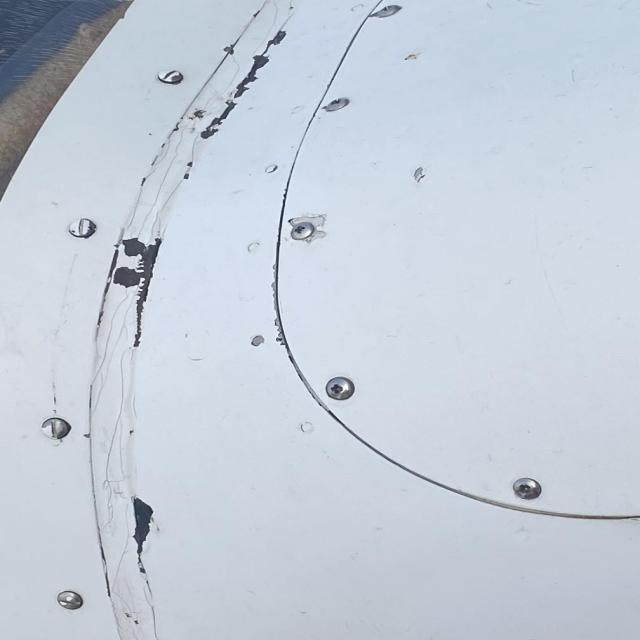Paint-off: (200, 54, 270, 139), (109, 237, 160, 347), (133, 496, 155, 551), (266, 28, 287, 51), (178, 160, 197, 182), (137, 171, 152, 190), (248, 6, 266, 21), (248, 334, 266, 347), (79, 427, 94, 442), (413, 167, 427, 182)
